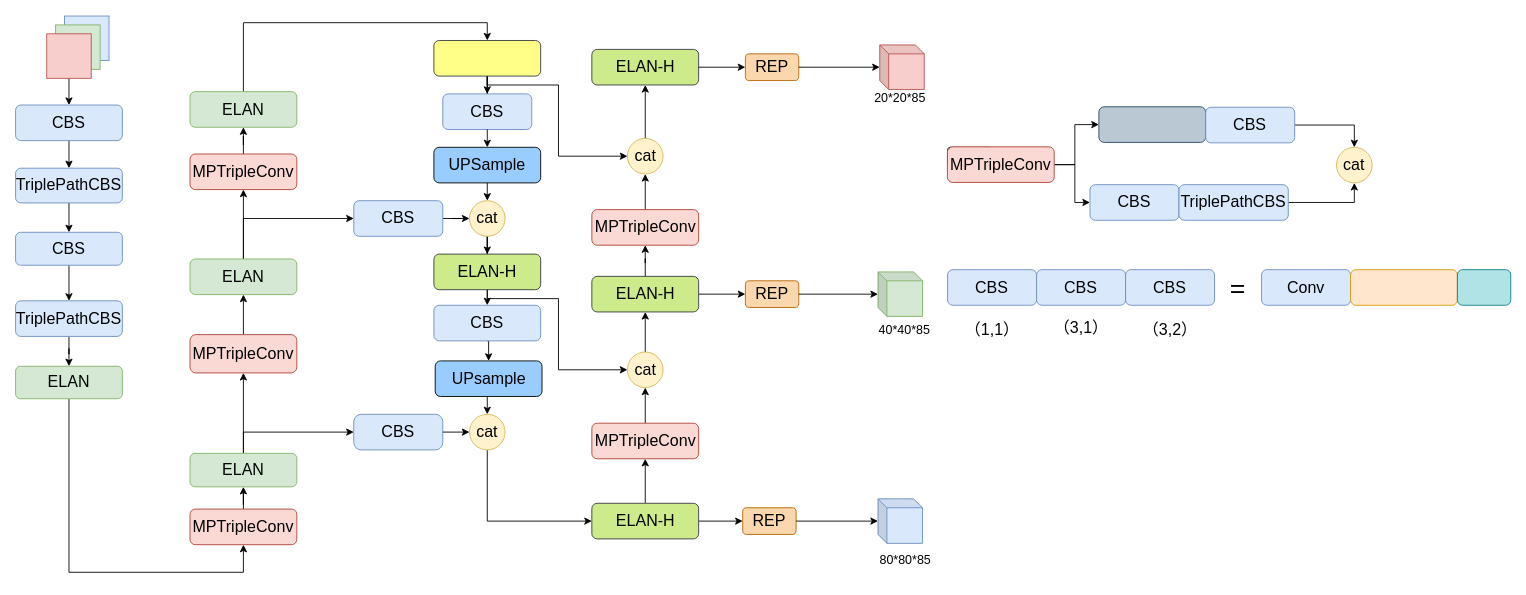
The diagram is 1526 pixels wide and 595 high, and some of its shapes have lost their labels. Each missing label, with the centre of its shape:
BatchNorm: pixel 1403 287
Maxpooling_3: pixel 1152 124
SiLU: pixel 1483 287
SPPCSPC: pixel 487 58
